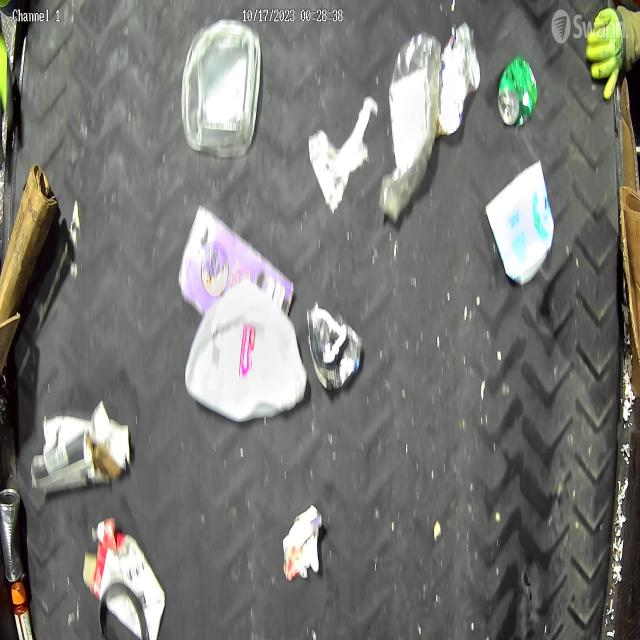milk-jug: (183, 282, 309, 425)
